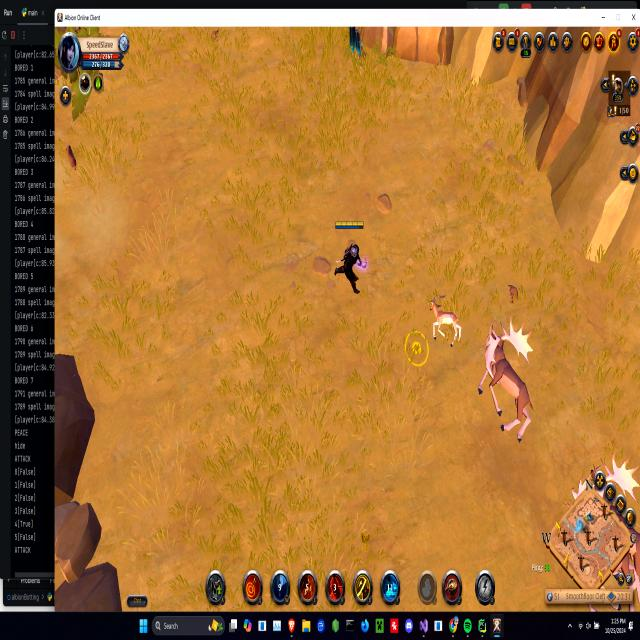mob: (479, 312, 534, 444), (425, 290, 465, 347)
player: (342, 26, 368, 68)
red: (330, 217, 370, 299)
